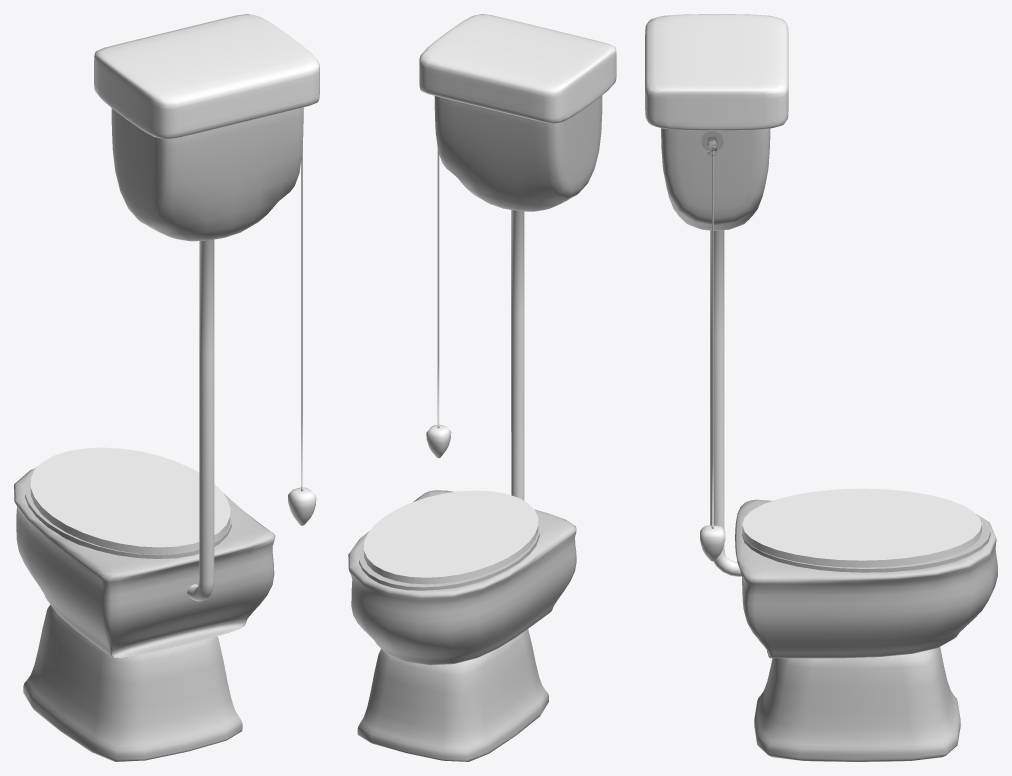
Rendered from toilet_f.glb.
3 renders of one model, left to right at view 1: azimuth 30°, elevation 25°; view 2: azimuth 150°, elevation 25°; view 3: azimuth 270°, elevation 25°, orthographic. The views are drawn at different scales.
Parts seen in each view (by area): view 1: Plane, Cube.002, Cube.004, Cube.003, Circle.001, Plane.001, Circle, Cube.005, Plane.002; view 2: Plane, Cube.002, Cube.004, Cube.003, Circle.001, Plane.001, Circle, Plane.002, Cube.005; view 3: Plane, Cube.002, Cube.004, Circle.001, Cube.003, Plane.001, Circle, Plane.002, Cube.005.
Boxes of the visible parts, bbox=[...] form: Plane: bbox=[14, 468, 275, 658]; Cube.002: bbox=[23, 605, 242, 761]; Cube.004: bbox=[94, 14, 319, 139]; Cube.003: bbox=[111, 107, 303, 241]; Circle.001: bbox=[30, 447, 230, 554]; Plane.001: bbox=[187, 239, 214, 601]; Circle: bbox=[25, 466, 231, 558]; Cube.005: bbox=[288, 487, 316, 525]; Plane.002: bbox=[301, 144, 303, 491]; Plane: bbox=[348, 490, 576, 665]; Cube.002: bbox=[357, 629, 548, 761]; Cube.004: bbox=[419, 14, 616, 123]; Cube.003: bbox=[434, 95, 602, 211]; Circle.001: bbox=[364, 490, 538, 584]; Plane.001: bbox=[511, 210, 524, 500]; Circle: bbox=[359, 523, 539, 590]; Plane.002: bbox=[437, 149, 439, 428]; Cube.005: bbox=[426, 425, 451, 458]; Plane: bbox=[735, 499, 997, 658]; Cube.002: bbox=[754, 647, 960, 761]; Cube.004: bbox=[645, 14, 788, 130]; Circle.001: bbox=[742, 488, 981, 567]; Cube.003: bbox=[661, 128, 770, 230]; Plane.001: bbox=[710, 230, 741, 576]; Circle: bbox=[742, 515, 990, 572]; Plane.002: bbox=[711, 148, 713, 528]; Cube.005: bbox=[700, 525, 725, 561].
Bounding box in the file's own units: 2.41 × 8.67 × 4.09.
Materials: 3 (1 with a texture image).
